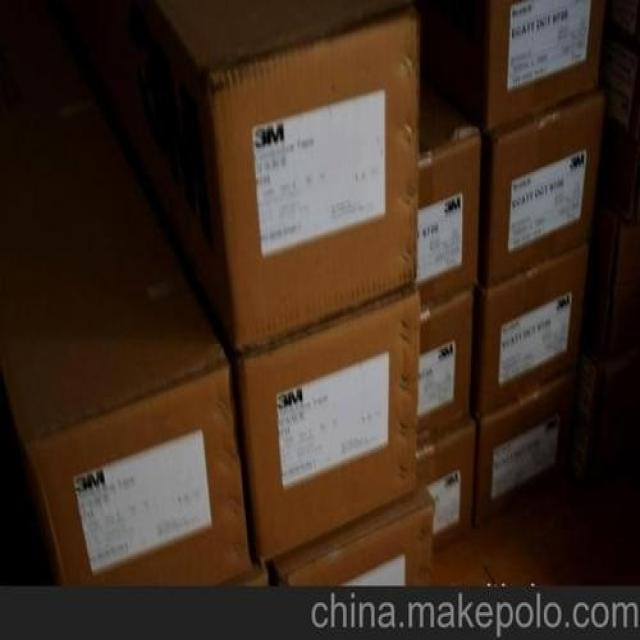box: (90, 94, 420, 563), (0, 107, 252, 589), (91, 2, 421, 352), (421, 68, 604, 286), (413, 1, 603, 130), (469, 245, 588, 418), (469, 368, 577, 529), (267, 484, 435, 587), (414, 75, 483, 312), (419, 286, 471, 445), (420, 417, 476, 550)
